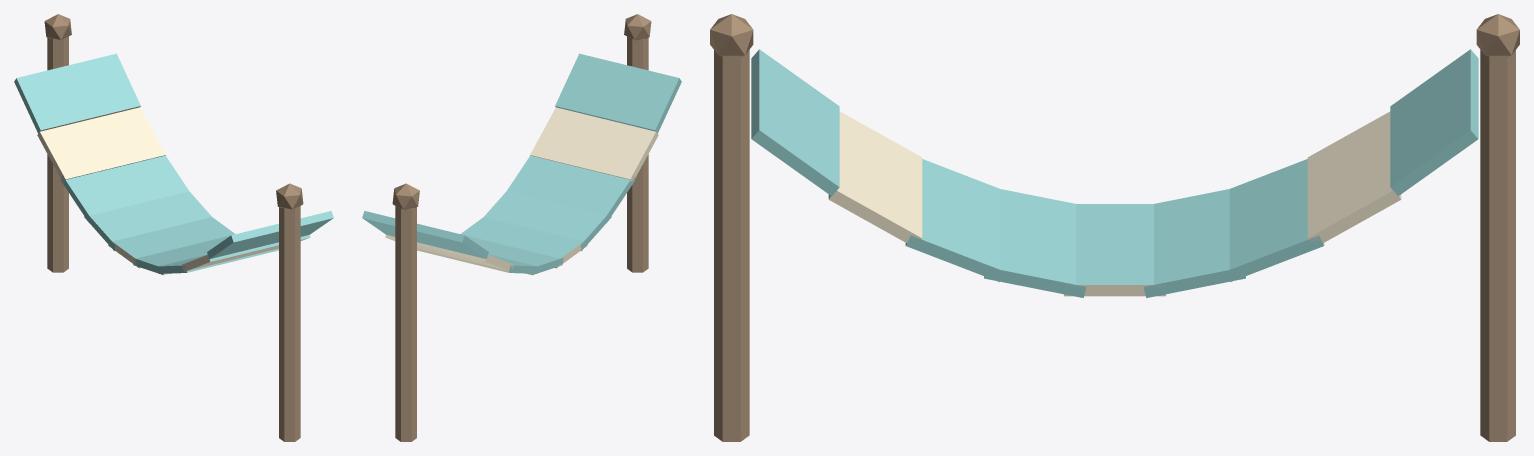
The model's file is Home_Hammock.fbx.
3 renders of one model, left to right at view 1: azimuth 30°, elevation 25°; view 2: azimuth 150°, elevation 25°; view 3: azimuth 270°, elevation 25°, orthographic. The views are drawn at different scales.
Parts seen in each view (by area): view 1: Hammock, Post, Post.001, PostCap, PostCap.001; view 2: Hammock, Post.001, Post, PostCap.001, PostCap; view 3: Hammock, Post, Post.001, PostCap, PostCap.001.
Part boxes in pixels (box(x1,y1,x2,y2)): Hammock: box(14, 53, 333, 275); Post: box(279, 206, 300, 441); Post.001: box(47, 36, 68, 272); PostCap: box(276, 183, 303, 209); PostCap.001: box(44, 14, 71, 40); Hammock: box(362, 53, 681, 275); Post.001: box(395, 206, 416, 441); Post: box(627, 36, 648, 272); PostCap.001: box(392, 183, 419, 209); PostCap: box(624, 14, 651, 40); Hammock: box(751, 49, 1478, 297); Post: box(714, 50, 749, 441); Post.001: box(1480, 50, 1515, 441); PostCap: box(710, 14, 753, 56); PostCap.001: box(1476, 14, 1519, 56).
Bounding box in the file's own units: 0.75 × 1.82 × 3.17.
